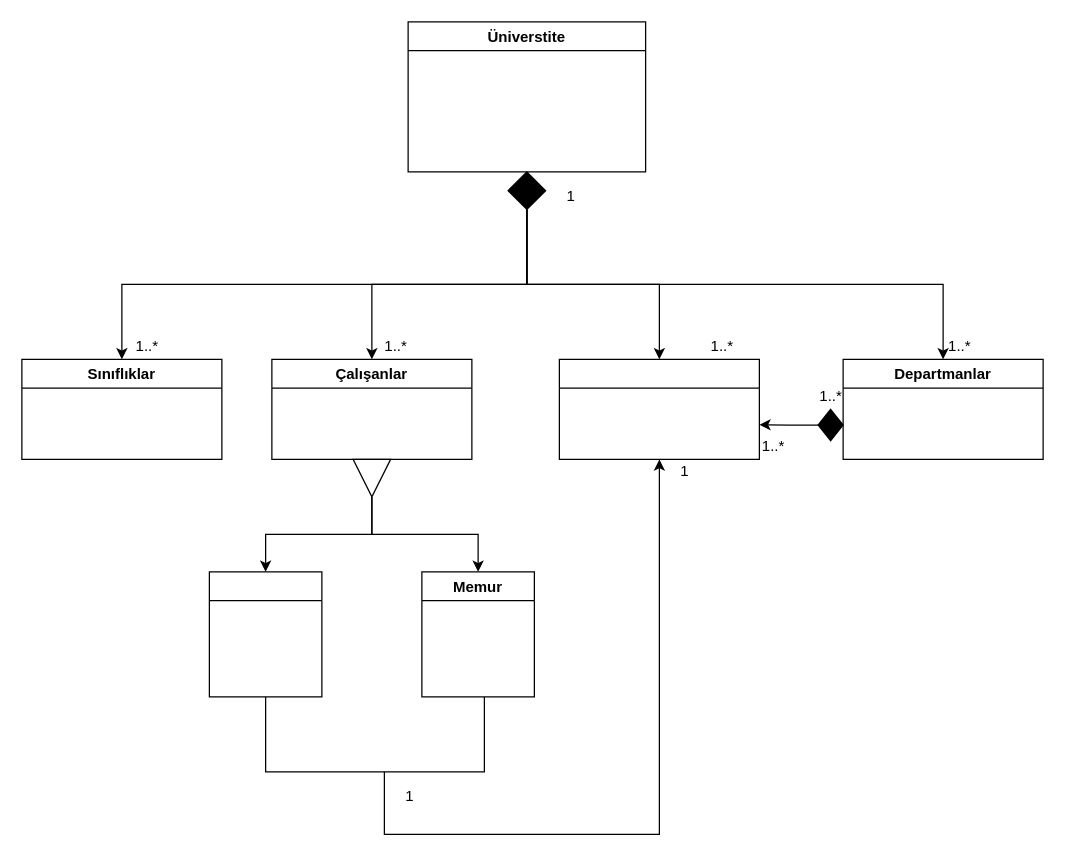
Image size: 1065x866. Some labels were removed from this diagram. Each missing label, with the centre of its shape:
"Profesör" goes at (x=265, y=634).
"Çalışma Ofisleri" goes at (x=658, y=408).
